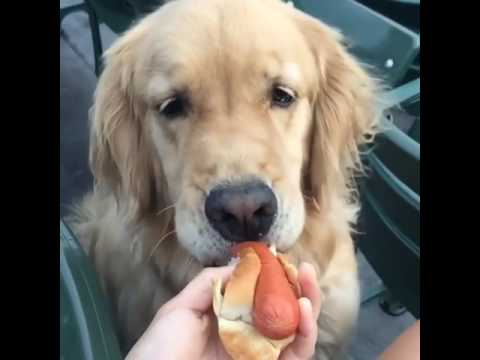dog: (85, 1, 381, 244)
hotdog: (208, 240, 304, 360)
